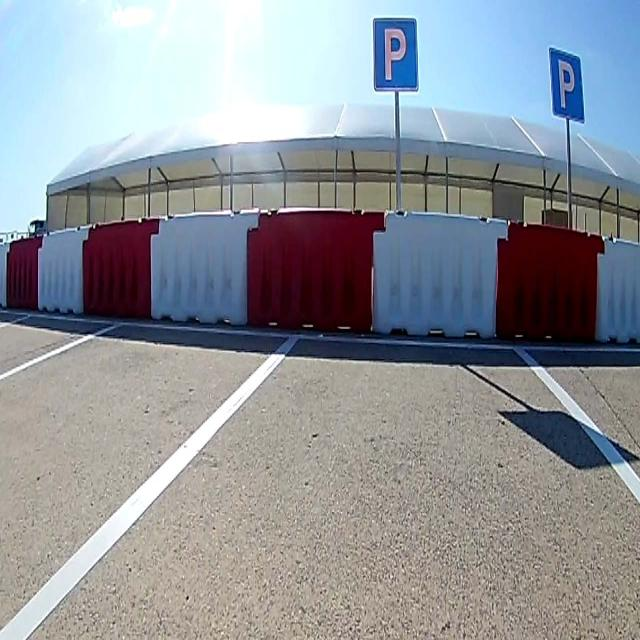park: (372, 19, 418, 90), (548, 45, 585, 121)
